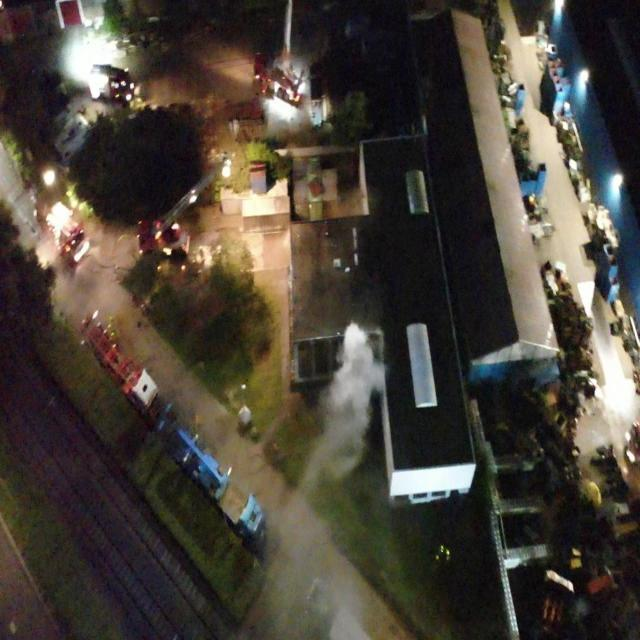Smoke: (260, 322, 390, 622), (333, 186, 378, 222)
